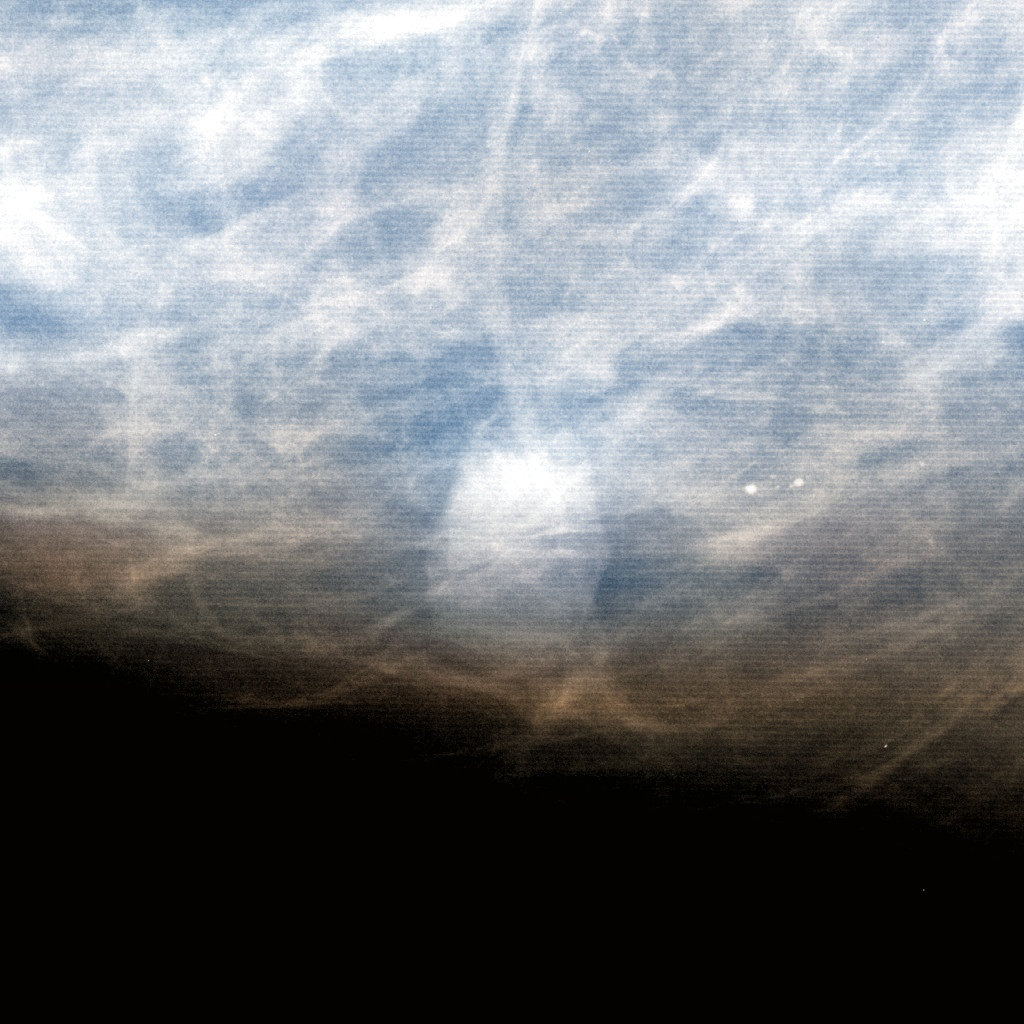tumor: (402, 395, 622, 629)
